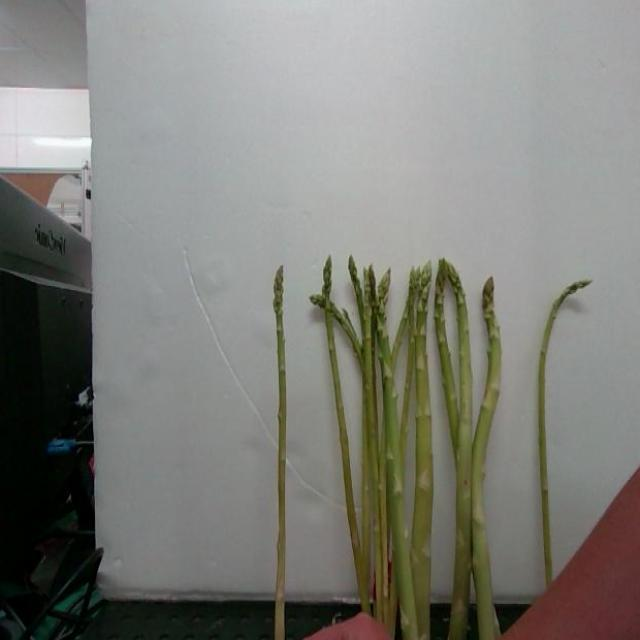aspargus: (536, 280, 594, 592), (470, 278, 503, 640), (272, 267, 287, 640)
